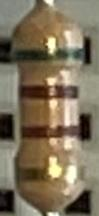Brown: (18, 82, 79, 100), (20, 123, 83, 139)
Green: (14, 46, 85, 62)
Side-Gold: (14, 163, 91, 184)
